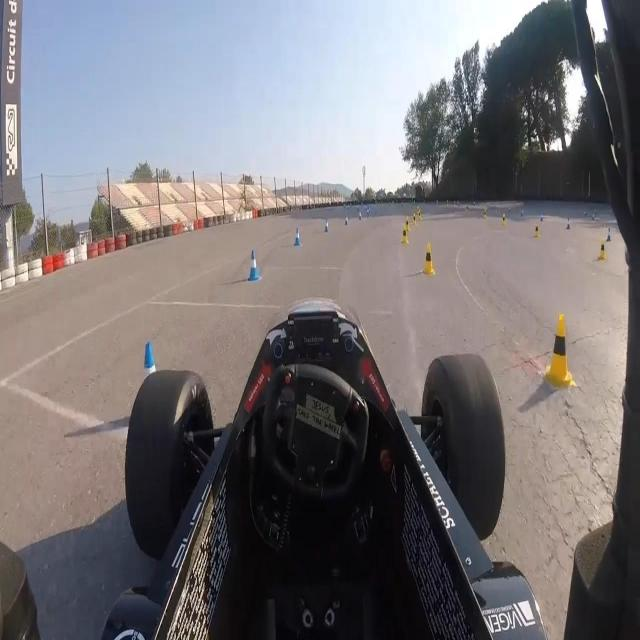blue_cone: (134, 343, 164, 430), (245, 247, 261, 285), (292, 226, 302, 248), (324, 218, 330, 234), (344, 212, 349, 228), (606, 224, 611, 240), (567, 214, 571, 234), (358, 208, 363, 221)
yellow_cone: (545, 311, 572, 391), (423, 240, 435, 277), (597, 238, 606, 264), (401, 224, 408, 245), (533, 221, 540, 240), (501, 212, 507, 228), (406, 217, 411, 232), (412, 213, 417, 228)
